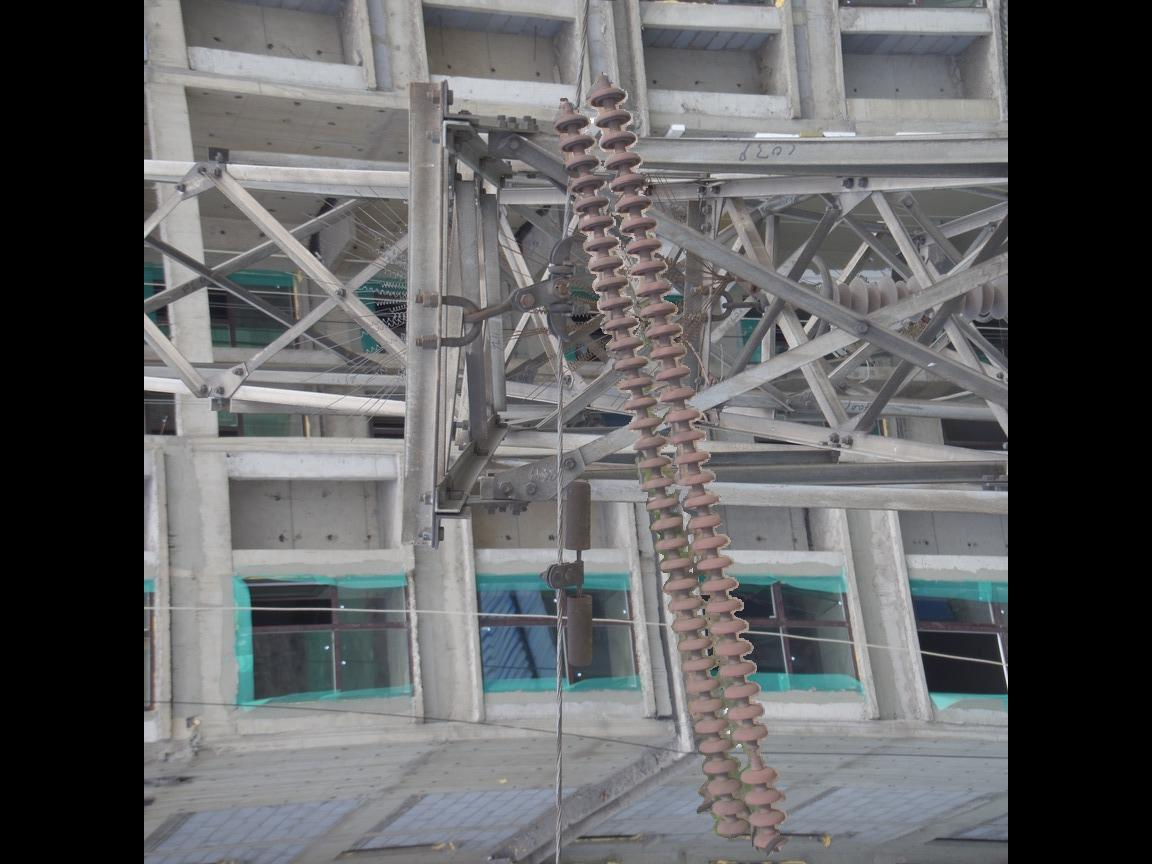insulator: (548, 79, 793, 852), (827, 263, 1013, 321)
insulator_stringdrop: (728, 721, 781, 792)
